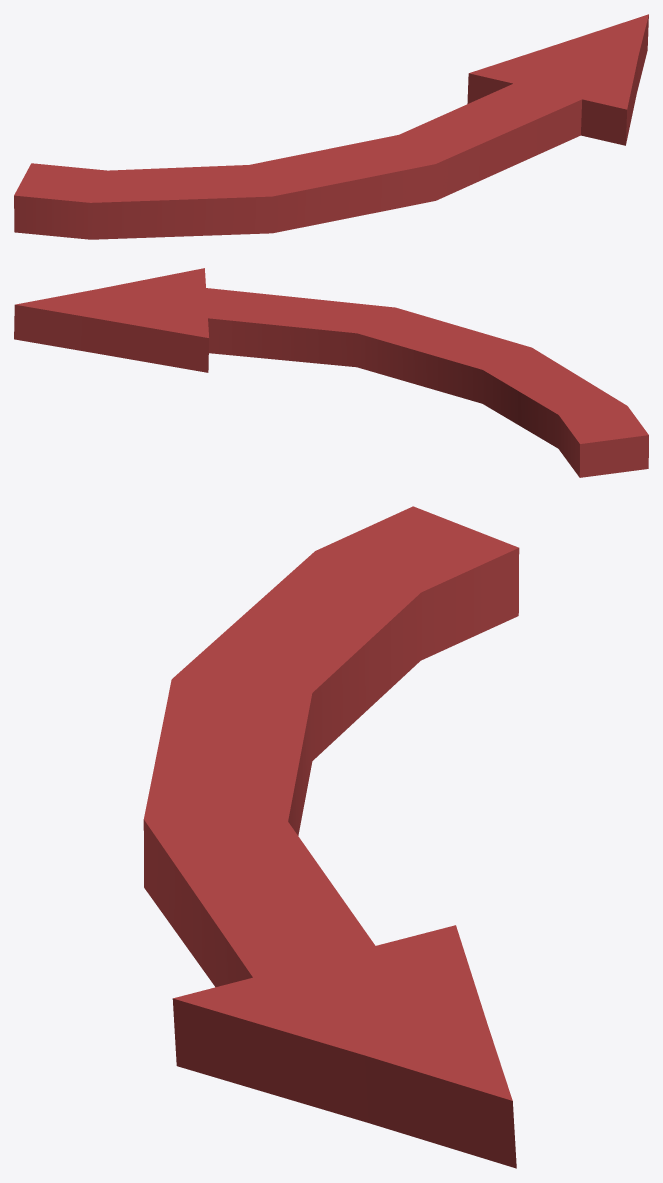
The model's file is Arrow.fbx.
The picture shows the model from 3 angles, top to bottom: view 1: azimuth 30°, elevation 25°; view 2: azimuth 150°, elevation 25°; view 3: azimuth 270°, elevation 25°; orthographic projection. The views are drawn at different scales.
Parts seen in each view (by area): view 1: Button1; view 2: Button1; view 3: Button1.
Part boxes in pixels (left/top/right/bottom): Button1: left=14, top=14, right=648, bottom=239; Button1: left=14, top=268, right=648, bottom=477; Button1: left=143, top=506, right=519, bottom=1168.
Bounding box in the file's own units: 9.75 × 0.519 × 2.6.
